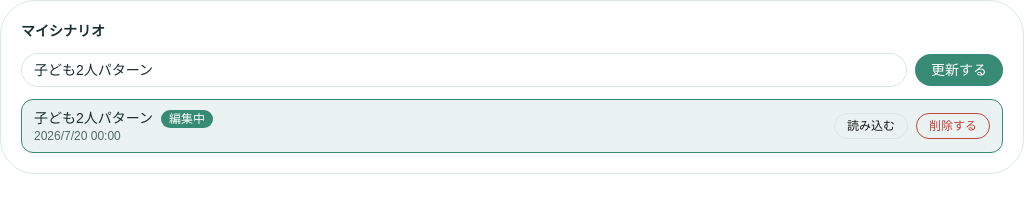
Test: マイシナリオの上書き保存 - 更新前に確認ダイアログを表示する › 「更新する」を押すと対象のシナリオ名を含む確認ダイアログが表示され、確認した場合のみonSaveが呼ばれること
This screenshot has width=1024, height=219.
Step 1. Click the button "更新する" → click(959, 70), box [915, 54, 1003, 86]
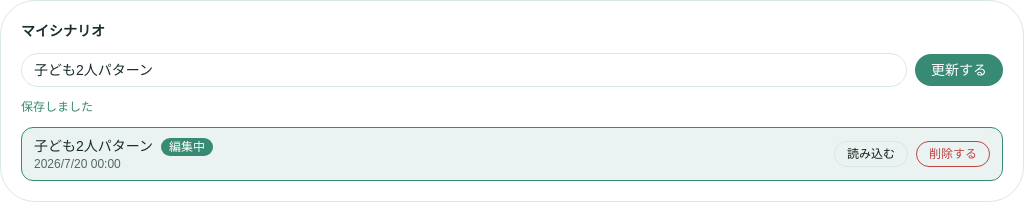
expect the text "保存しました" is shown: met, box [21, 100, 93, 114]
